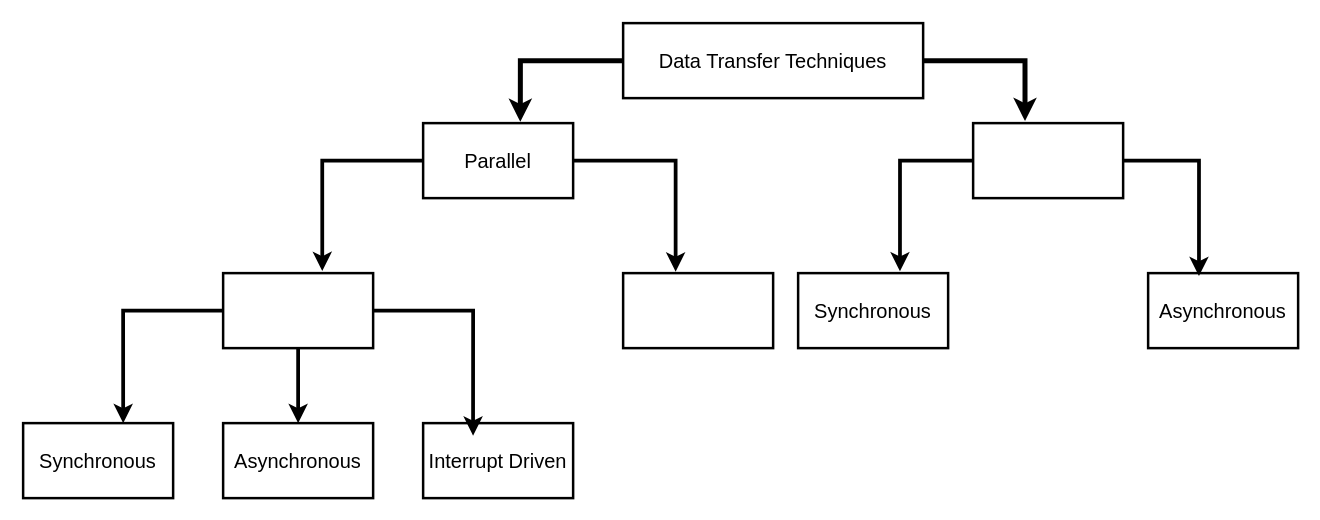
Some shapes in this 1320 by 520 pixel diagram are drawn without their labels. Here are the shapes that lost their labels. From the top down, the centre of each, then its label:
the point at 1047,160: Serial
the point at 297,310: Programmed I/O
the point at 697,310: DMA
